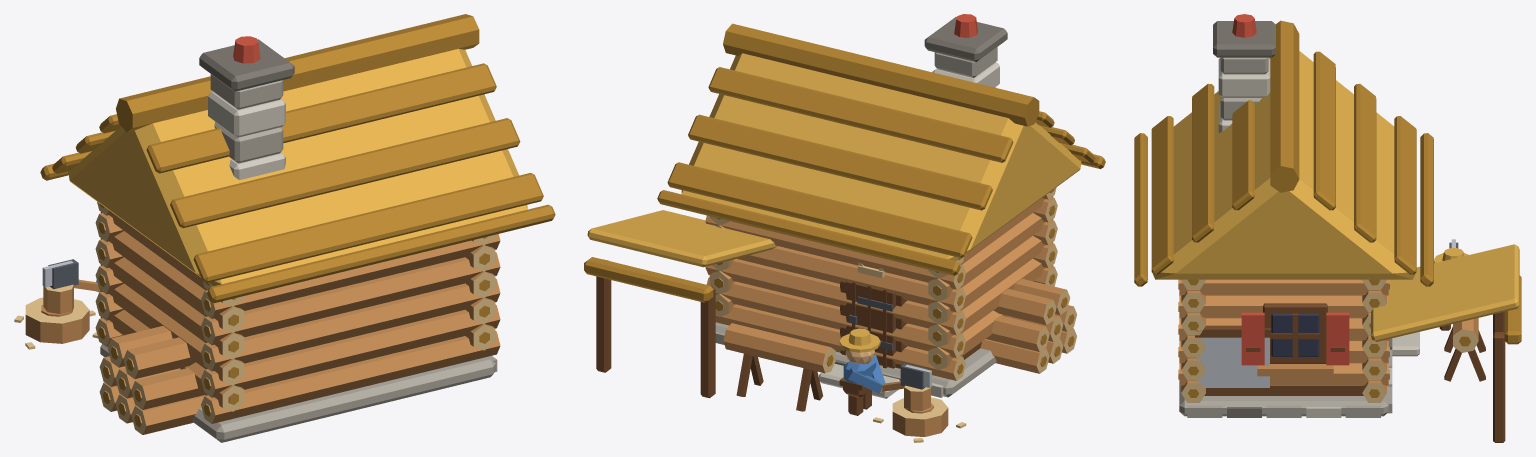
File: woodcutter_l2.fbx
The picture shows the model from 3 angles, left to right: view 1: azimuth 30°, elevation 25°; view 2: azimuth 150°, elevation 25°; view 3: azimuth 270°, elevation 25°; orthographic projection. The views are drawn at different scales.
Parts seen in each view (by area): view 1: woodcutter_l2, Axe; view 2: woodcutter_l2, Axe; view 3: woodcutter_l2.
Part boxes in pixels (x1=…): woodcutter_l2: x1=14, y1=14, x2=555, y2=442; Axe: x1=42, y1=259, x2=100, y2=292; woodcutter_l2: x1=584, y1=14, x2=1105, y2=442; Axe: x1=846, y1=354, x2=931, y2=393; woodcutter_l2: x1=1134, y1=14, x2=1521, y2=442.
Size of the model in its own units: 0.8304 by 0.73 by 0.8219.
